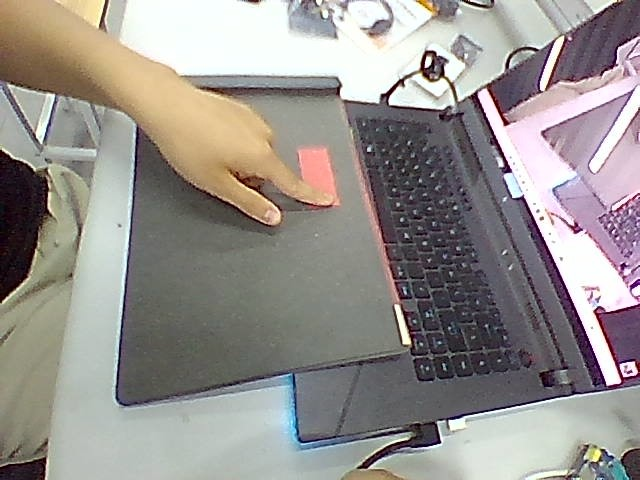card: (298, 146, 338, 205)
